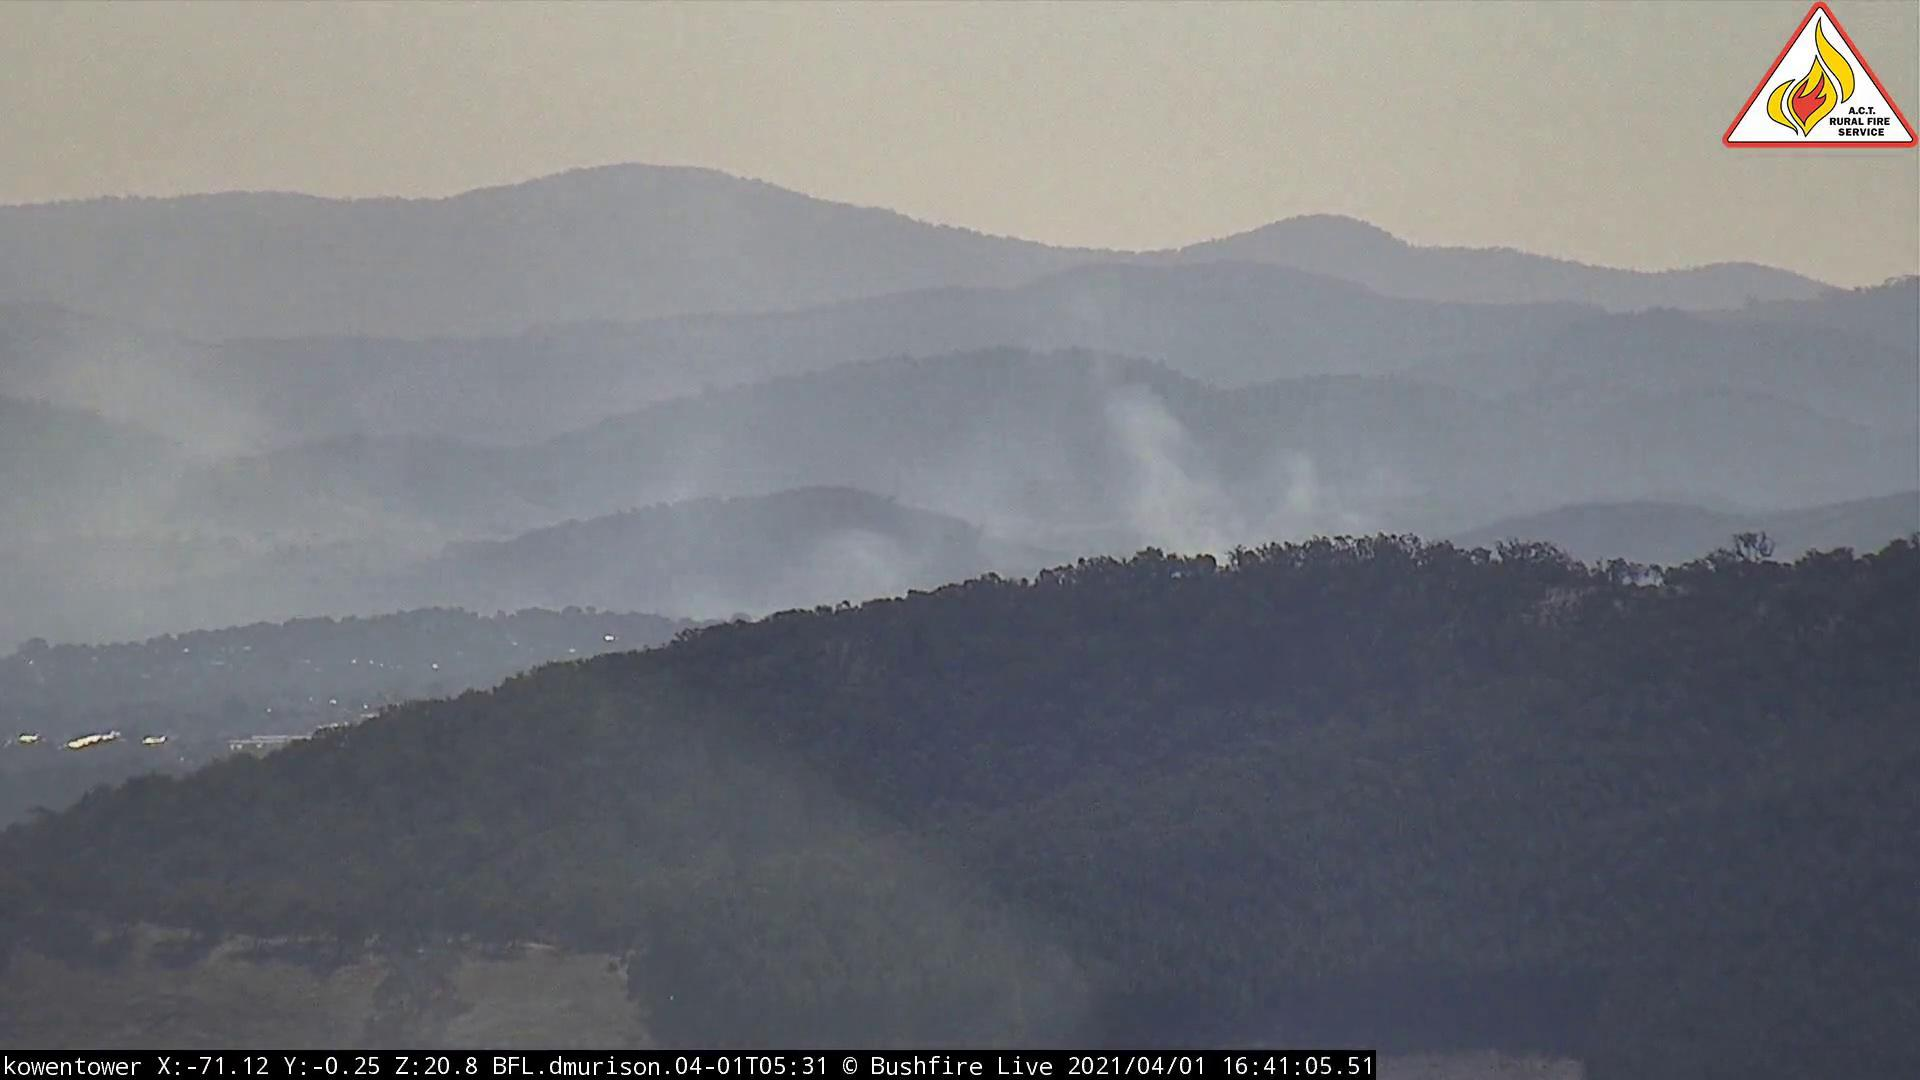Smoke: (575, 235, 1443, 679)
